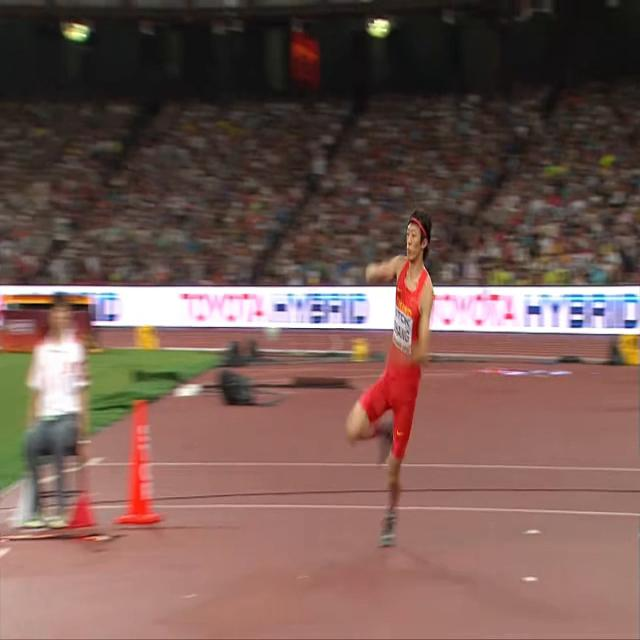run: (345, 207, 435, 549)
